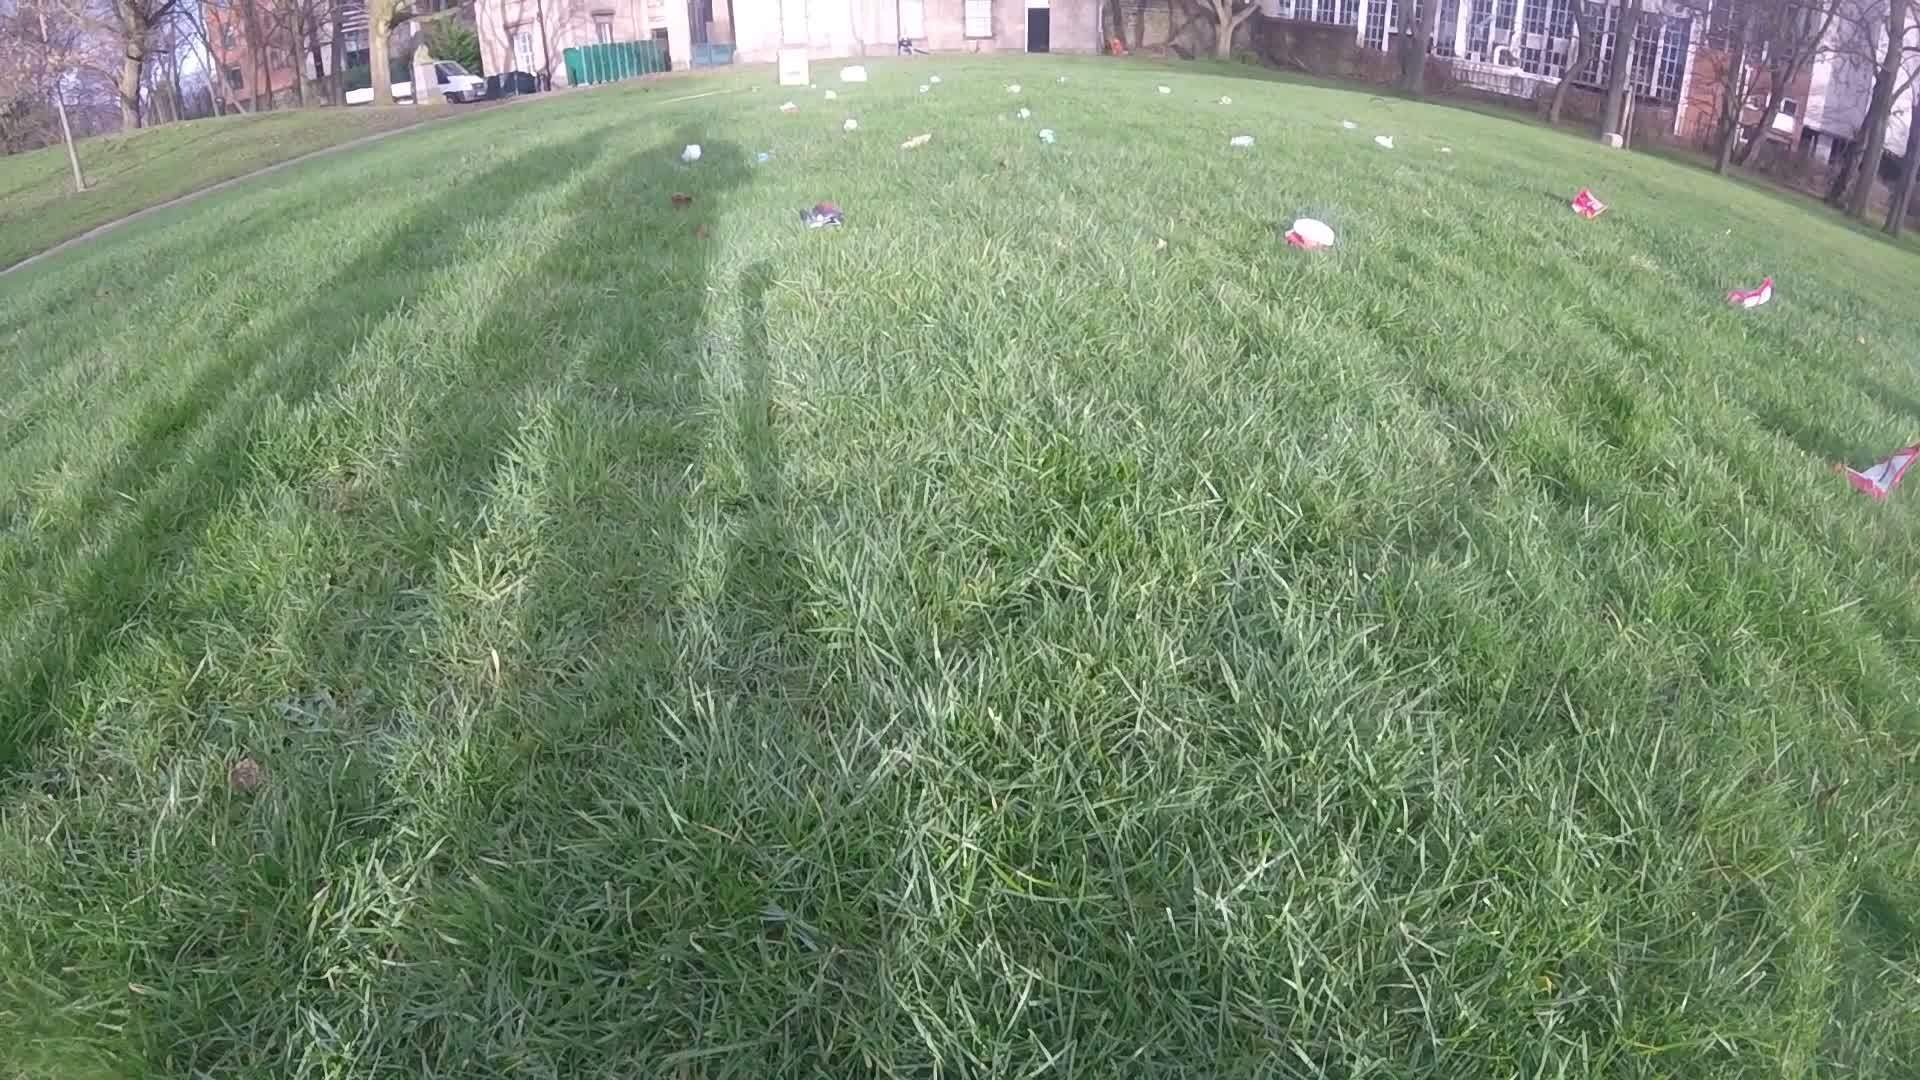litter: (1840, 440, 1920, 491), (1287, 216, 1335, 248), (778, 44, 810, 88), (1729, 280, 1774, 309), (802, 198, 843, 227), (1573, 193, 1606, 220), (682, 138, 702, 166), (902, 131, 931, 149), (843, 62, 872, 80), (1371, 132, 1396, 149), (1038, 124, 1059, 144), (1232, 132, 1254, 148), (778, 98, 800, 113), (844, 117, 858, 132), (1218, 92, 1233, 104), (824, 90, 839, 102), (1155, 87, 1174, 96), (1004, 86, 1025, 94), (1014, 112, 1033, 120), (760, 150, 771, 162), (919, 83, 932, 92), (1345, 123, 1358, 131), (932, 73, 942, 82)
